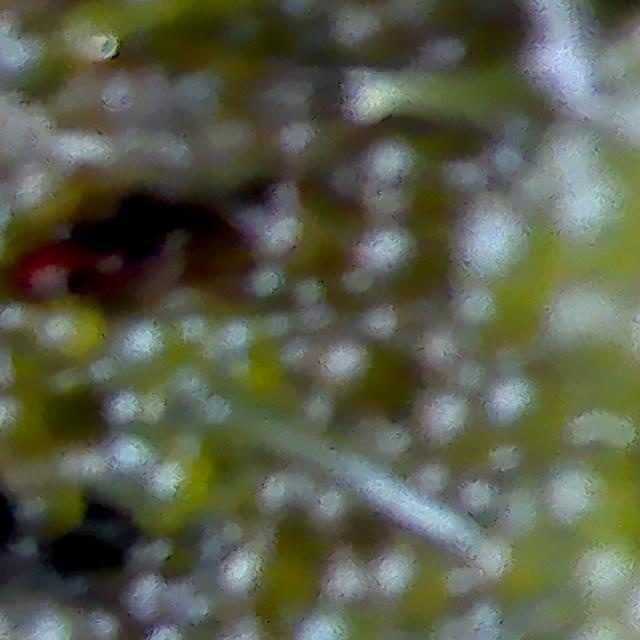SeaGrape: (543, 278, 634, 366), (463, 206, 532, 280), (257, 207, 325, 265), (362, 144, 427, 200), (364, 235, 425, 294), (264, 122, 322, 178), (417, 390, 473, 444), (318, 351, 374, 395)
